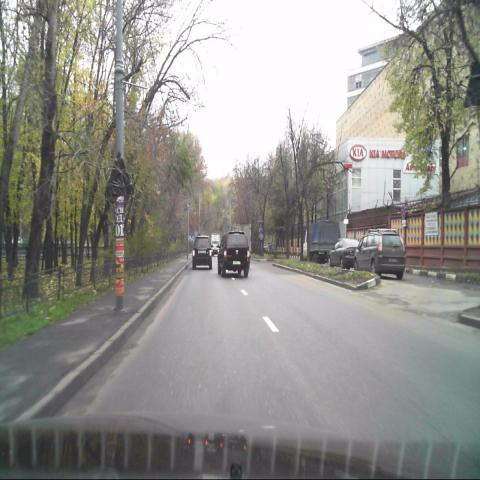3_27: (401, 204, 407, 219)
